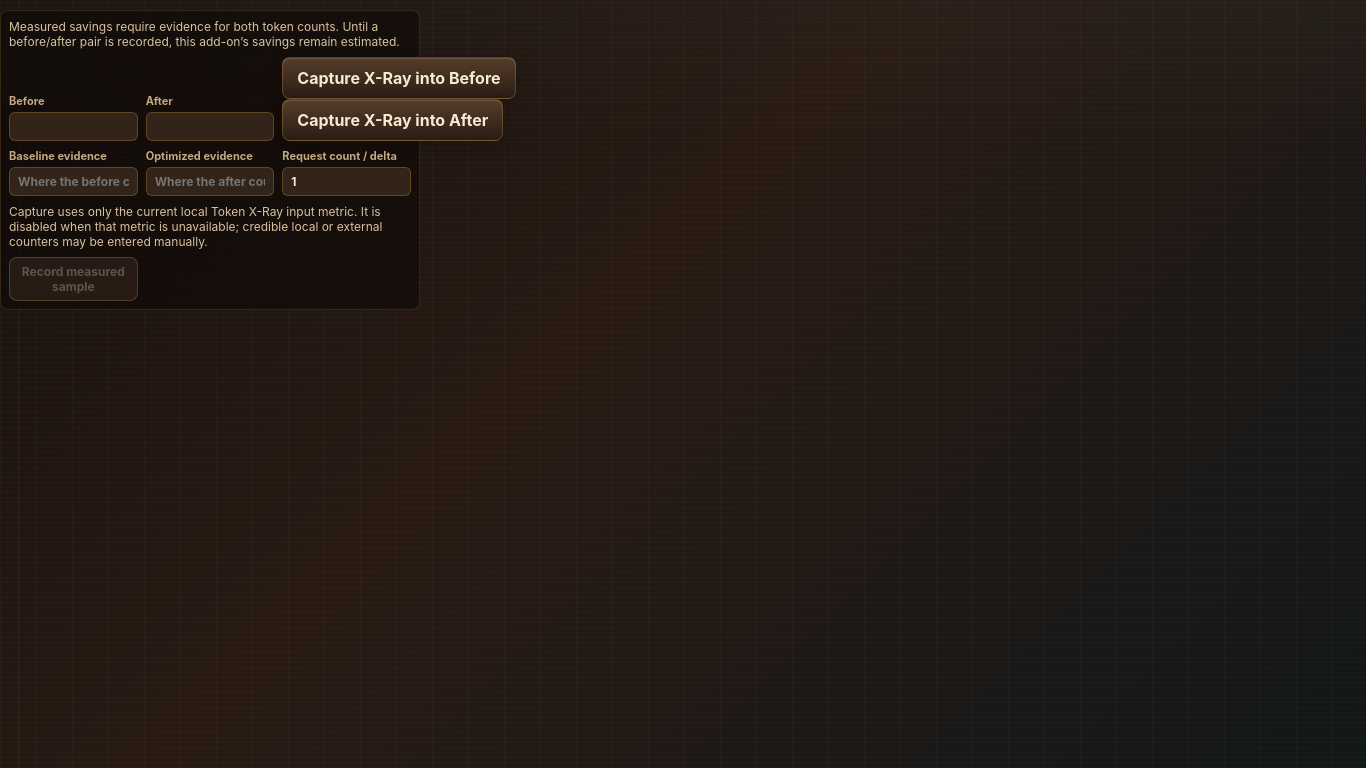
MeasuredAddonSavingsForm › captures local X-Ray evidence into either side with provenance
The image size is (1366, 768).
Click the button "Capture X-Ray into Before". click: x=399, y=78
box: [282, 57, 516, 99]
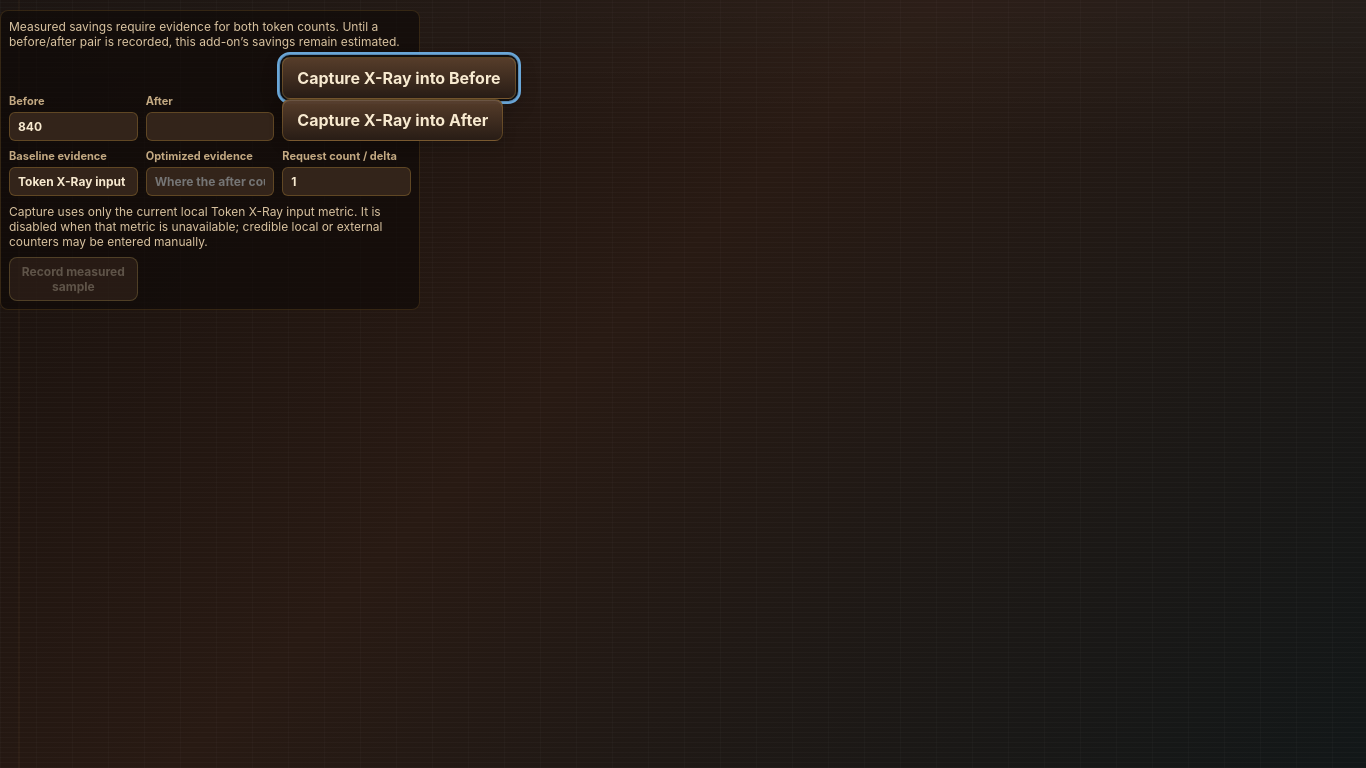
Result: the number field labelled "Before" holds "840" at [9, 112, 138, 141]
Click the button "Capture X-Ray into After". click: x=393, y=120
box: [282, 99, 503, 141]
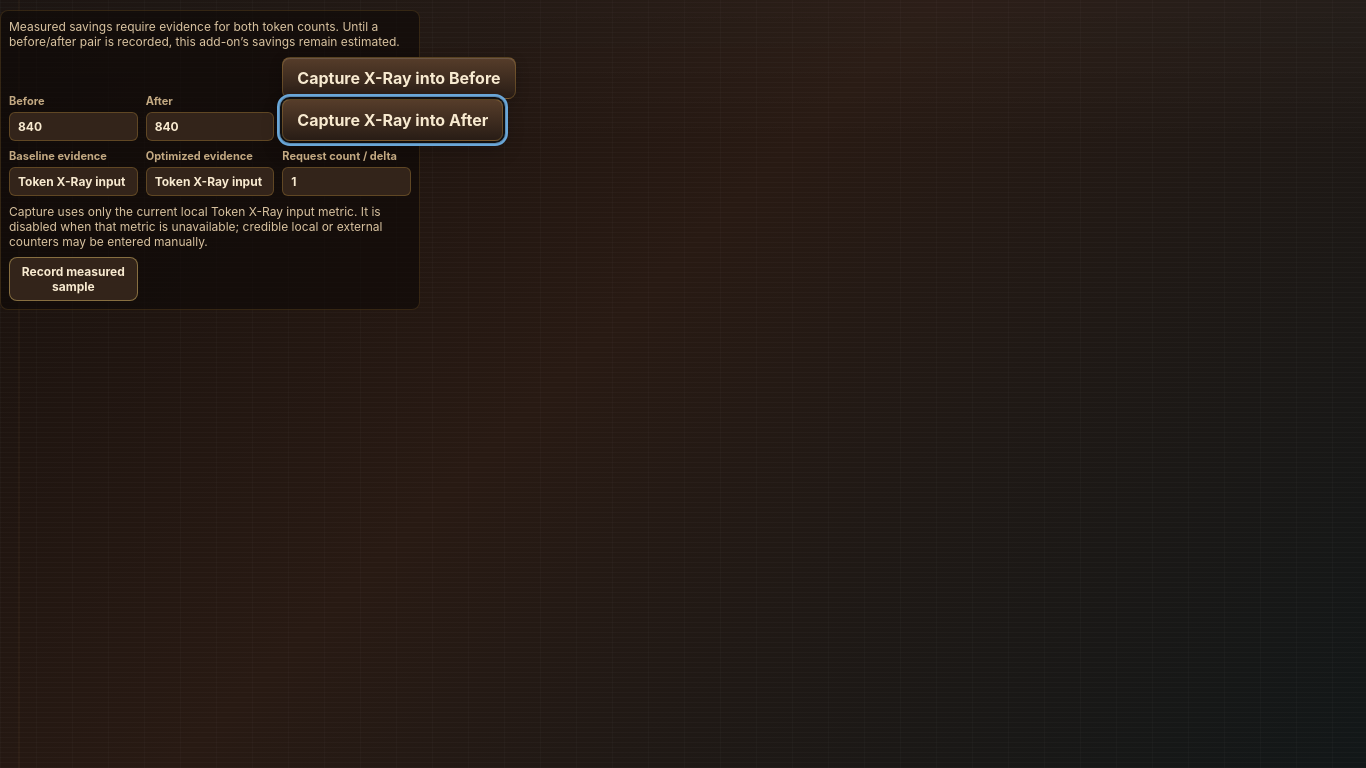
Result: the number field labelled "After" holds "840" at [146, 112, 274, 141]
